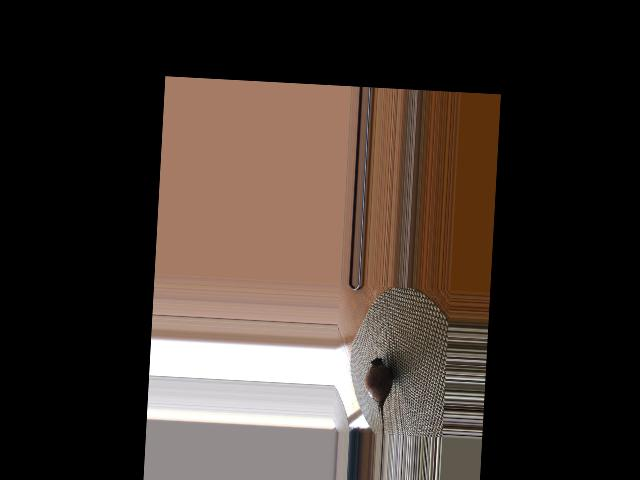beet: (362, 357, 393, 434)
